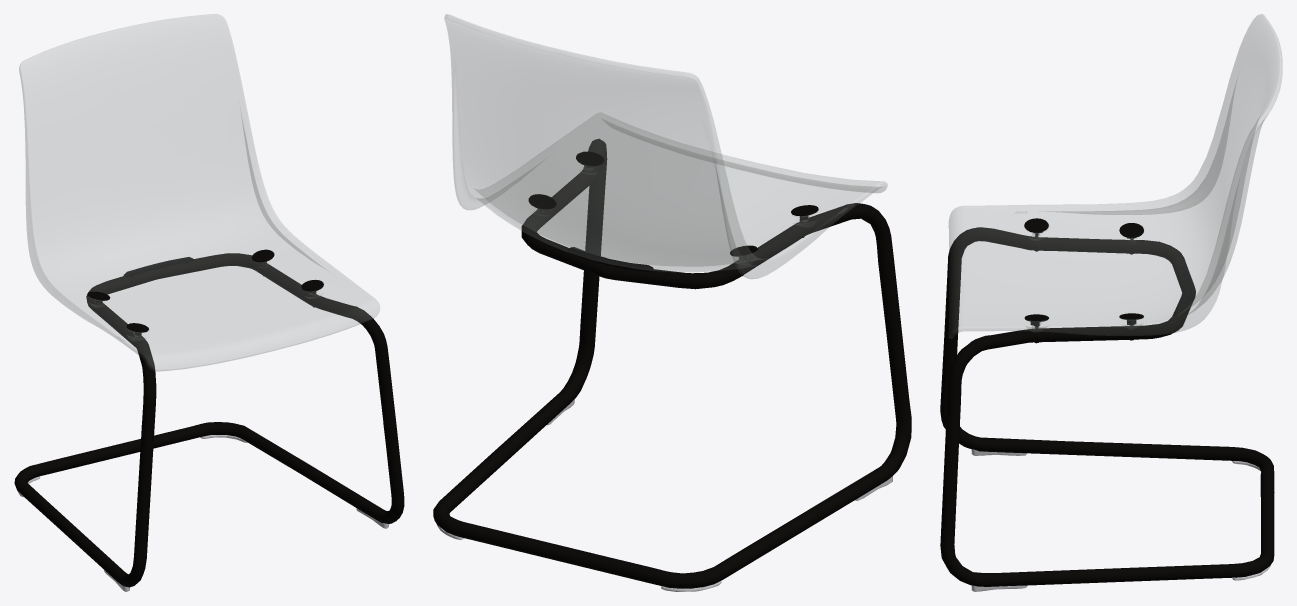
3 renders of one model, left to right at view 1: azimuth 30°, elevation 25°; view 2: azimuth 150°, elevation 25°; view 3: azimuth 270°, elevation 25°, orthographic. The views are drawn at different scales.
Visible parts, largest first — view 1: ASY_ART_30635123_S01_NV01; view 2: ASY_ART_30635123_S01_NV01; view 3: ASY_ART_30635123_S01_NV01.
Boxes of the visible parts, bbox=[...] form: ASY_ART_30635123_S01_NV01: bbox=[14, 14, 404, 591]; ASY_ART_30635123_S01_NV01: bbox=[433, 14, 911, 591]; ASY_ART_30635123_S01_NV01: bbox=[940, 14, 1282, 591].
Bounding box in the file's own units: 0.5484 × 0.8225 × 0.5576.
2 materials, 2 textured.
